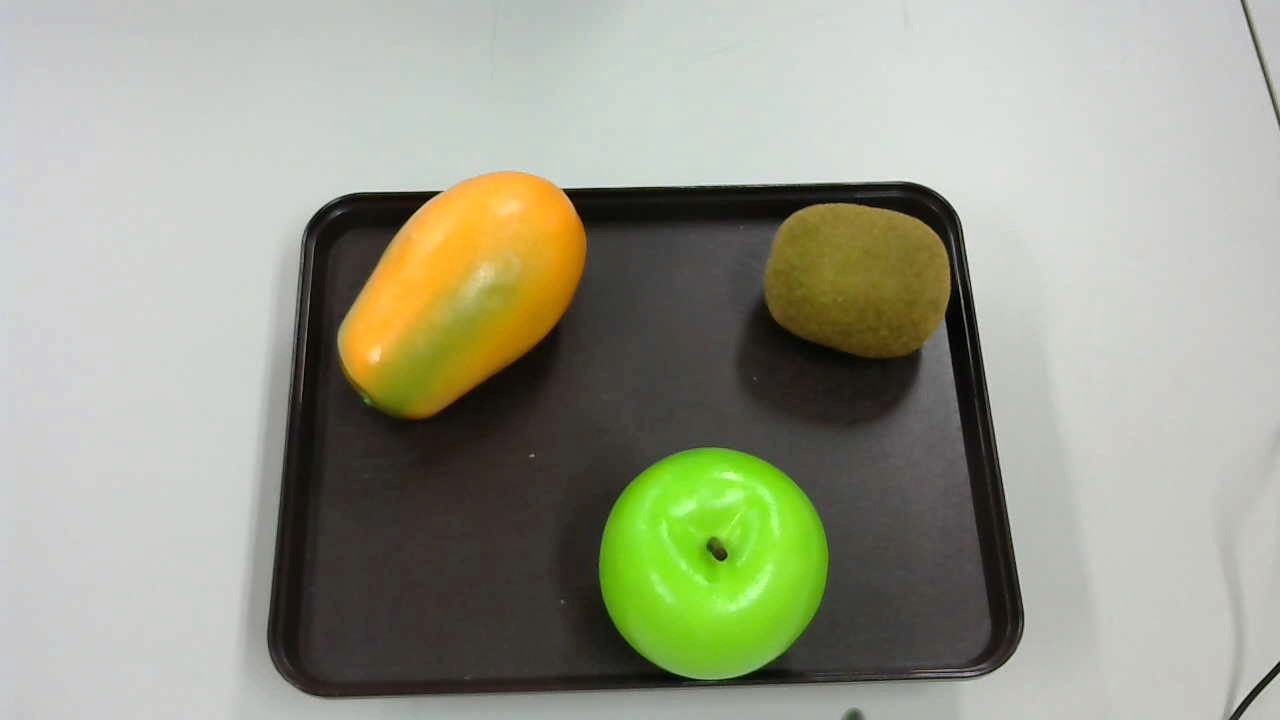green apple: (597, 443, 830, 677)
kiwi fruit: (760, 203, 953, 361)
papya: (328, 166, 591, 424)
